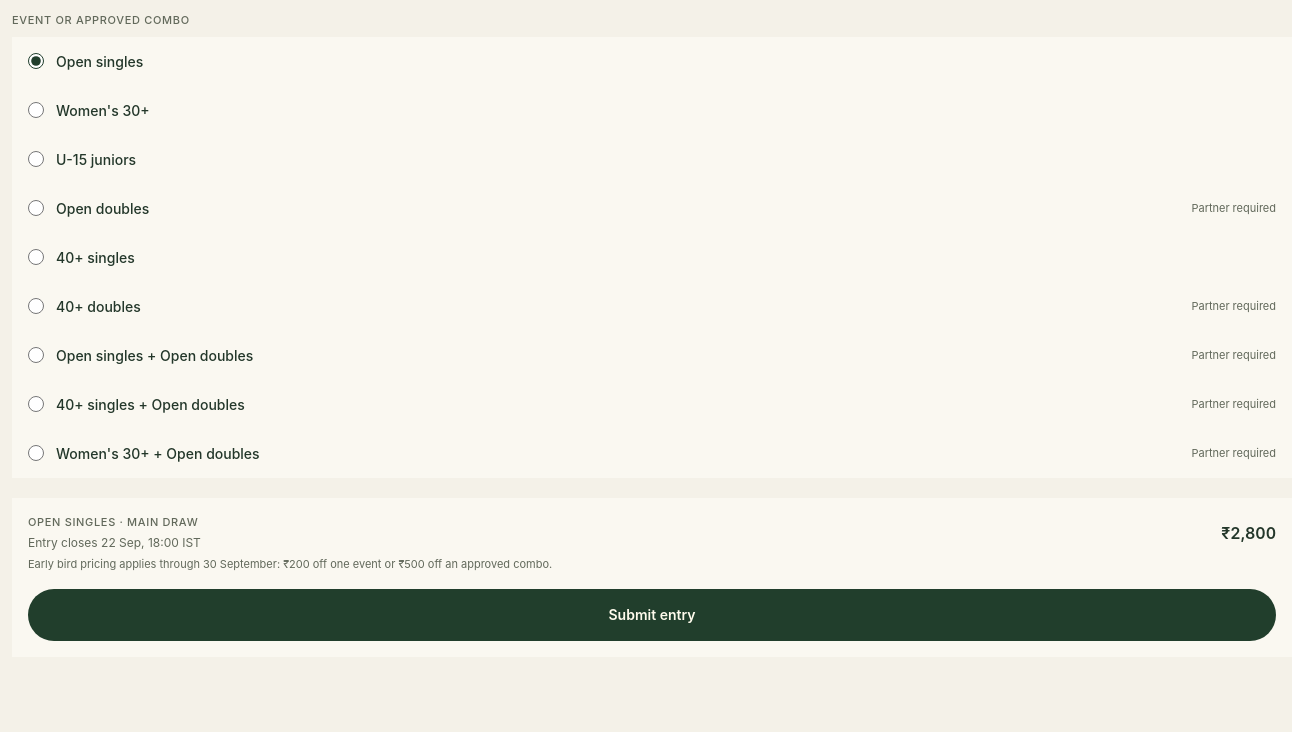
EntryForm › shows the error returned by the server action
Click the button "Submit entry" at {"x": 652, "y": 614}, box [28, 588, 1276, 640]
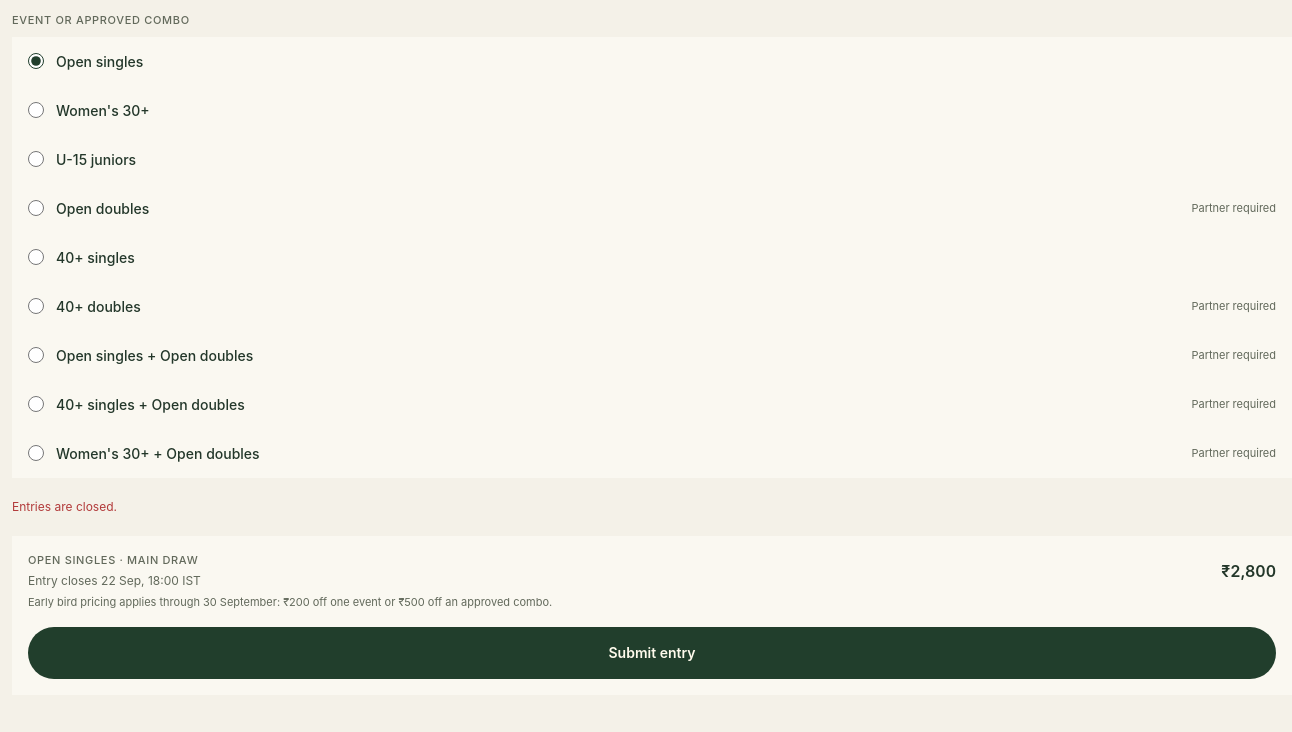
Expected: the message reads "Entries are closed.", [12, 498, 117, 514]
